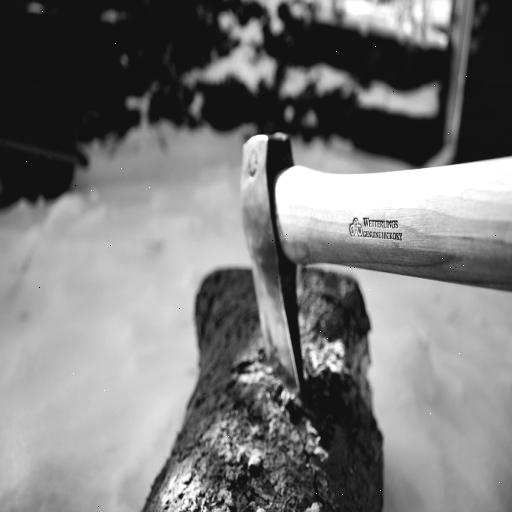Axe: (237, 127, 512, 392)
